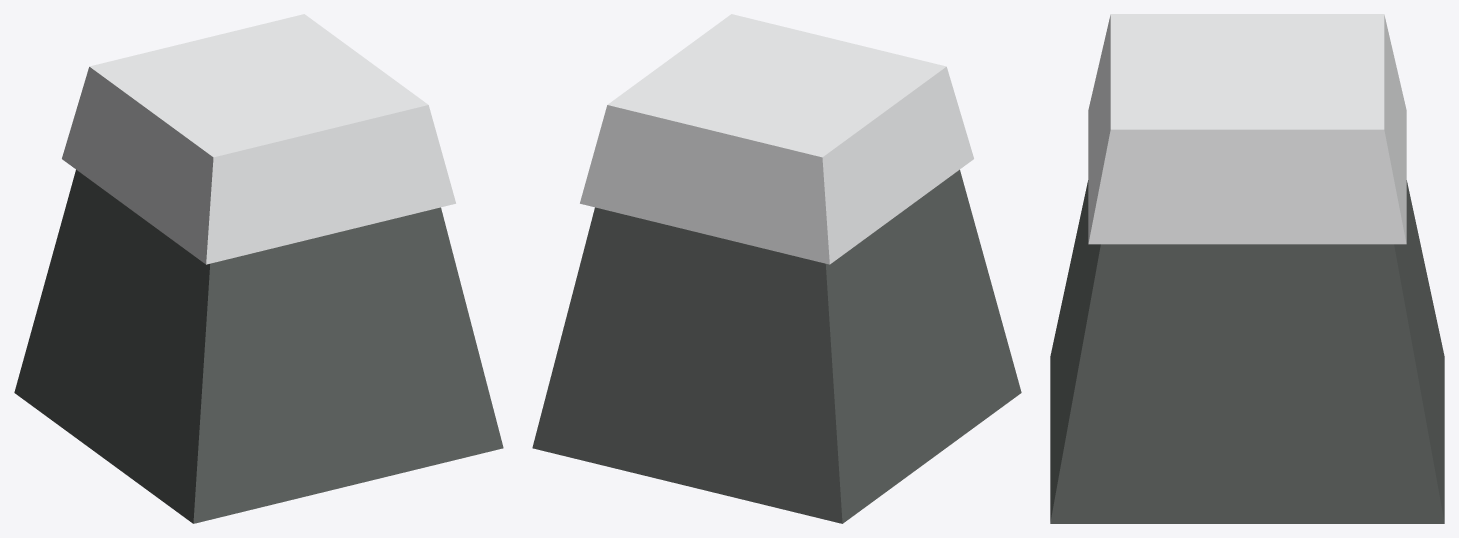
Rendered from Mesh_Stone.glb.
3 views of the same model, side by side, from view 1: azimuth 30°, elevation 25°; view 2: azimuth 150°, elevation 25°; view 3: azimuth 270°, elevation 25° (orthographic). The views are drawn at different scales.
Visible parts, largest first — view 1: Mesh_Stone; view 2: Mesh_Stone; view 3: Mesh_Stone.
Part boxes in pixels (<box>): Mesh_Stone: <box>14,14,503,523</box>; Mesh_Stone: <box>532,14,1021,523</box>; Mesh_Stone: <box>1050,14,1444,523</box>.
Bounding box in the file's own units: 0.1364 × 0.1407 × 0.1364.
1 material, 1 textured.
